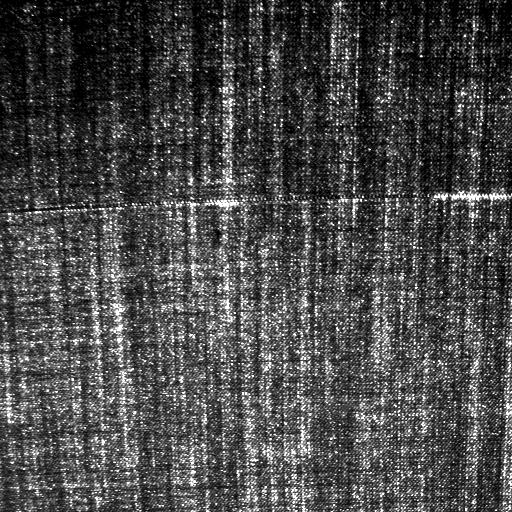fabric_broken_pick: (160, 184, 500, 220)
